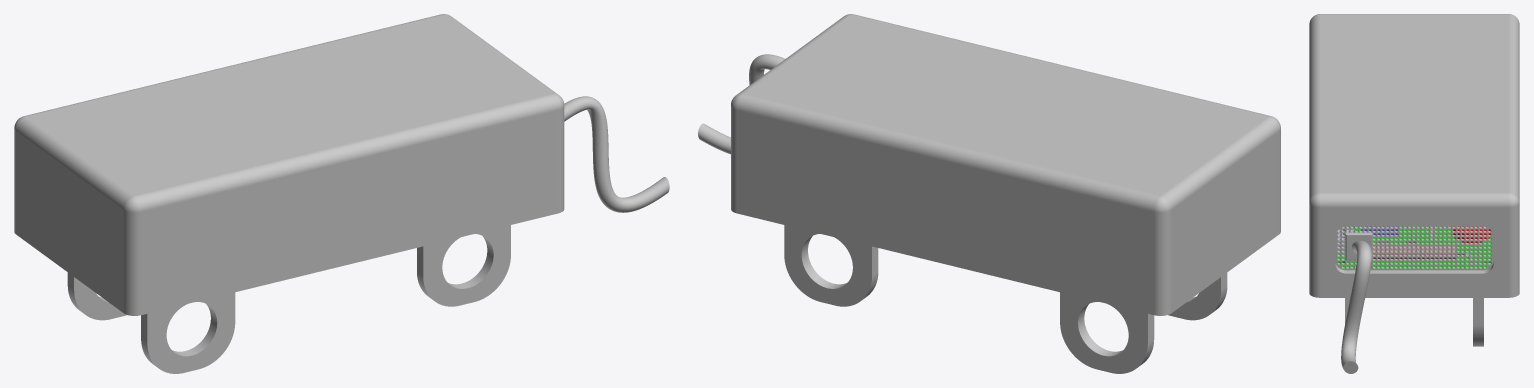
3 views of the same model, side by side, from view 1: azimuth 30°, elevation 25°; view 2: azimuth 150°, elevation 25°; view 3: azimuth 270°, elevation 25° (orthographic). The views are drawn at different scales.
Visible parts, largest first — view 1: Node1, Node7; view 2: Node1, Node7; view 3: Node1, Node7, Node6, Node13, Node8.
Part boxes in pixels (x1,y1,x2,y2): Node1: (14, 14, 564, 373); Node7: (564, 96, 669, 212); Node1: (731, 14, 1280, 373); Node7: (698, 54, 785, 154); Node1: (1309, 14, 1519, 346); Node7: (1337, 230, 1411, 373); Node6: (1337, 226, 1491, 266); Node13: (1373, 226, 1455, 258); Node8: (1453, 226, 1490, 242).
Bounding box in the file's own units: 153 × 53 × 57.
